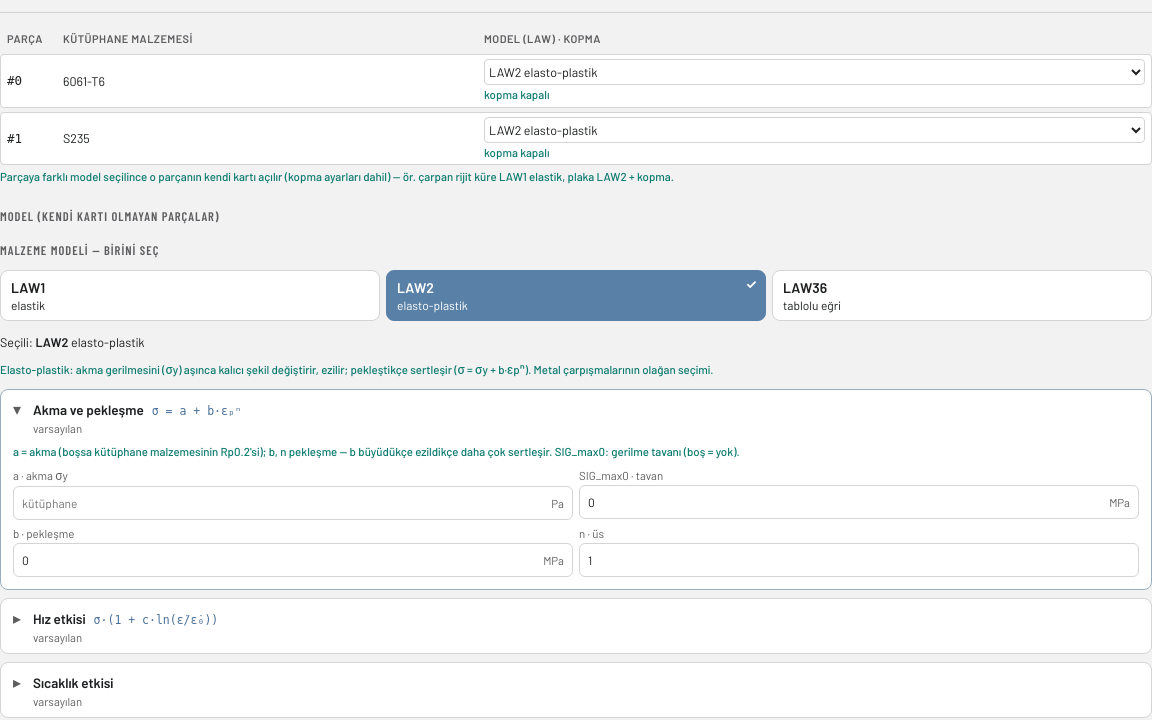
CrashMaterialSection · alttaki kartta model seçilince onay (kullanıcı 2026-10-13) › Evet: tüm parçalar bu model (kendi kartları kalkar)
The width and height of the screenshot is (1152, 720).
Select "LAW36 tablolu" in the dropdown named "Parça 1 modeli" at (815, 130), box [484, 116, 1145, 142]
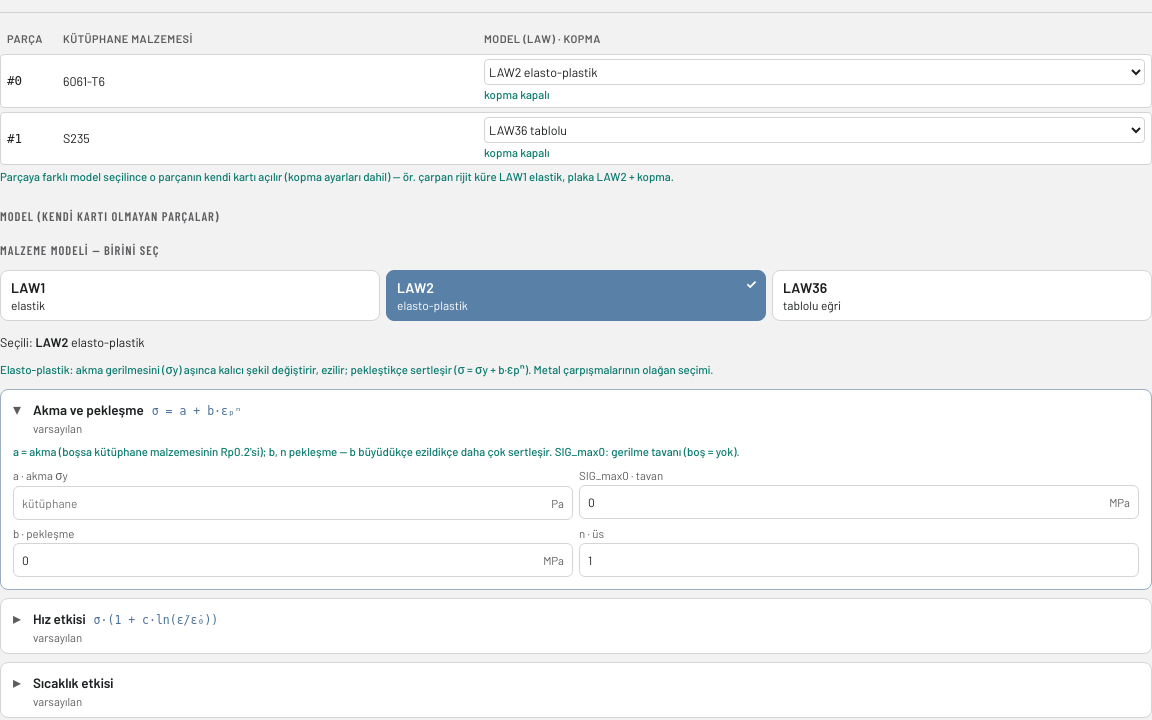
Click the button "LAW1 elastik" at (28, 288), box [0, 270, 380, 321]
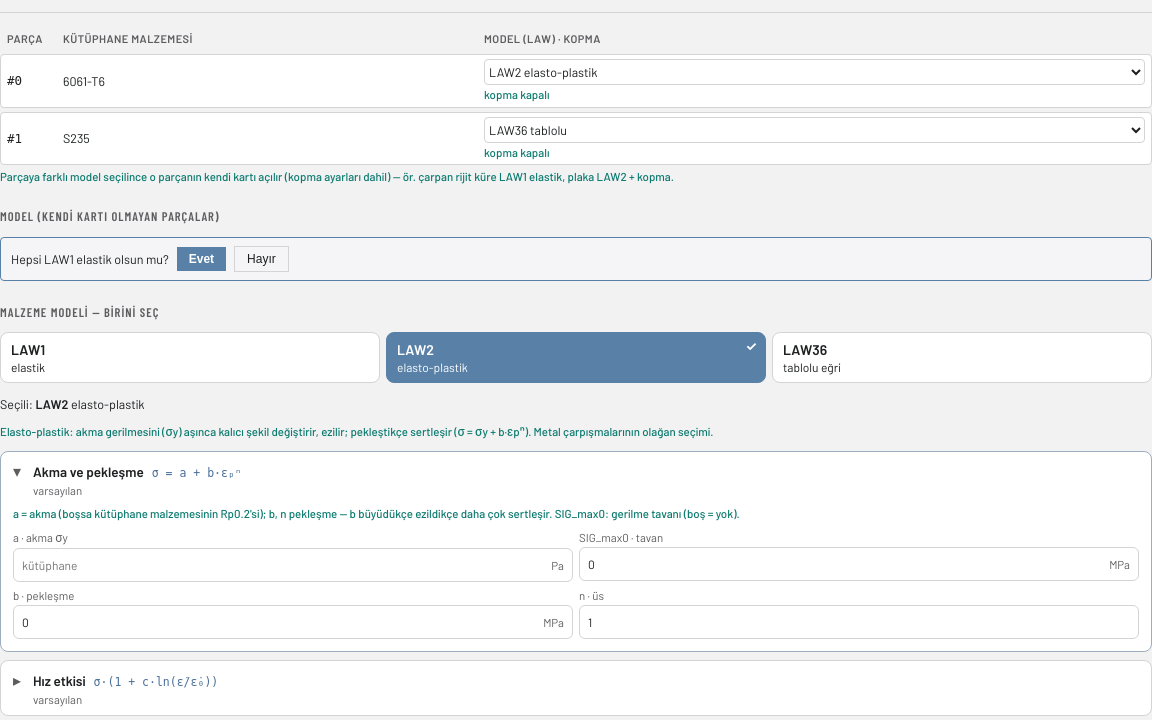
Now the dialog named "Tüm parçalar" shows "Hepsi LAW1 elastik olsun mu?", box [0, 237, 1151, 281]
Click the button "Evet" at (201, 259), box [177, 247, 226, 271]
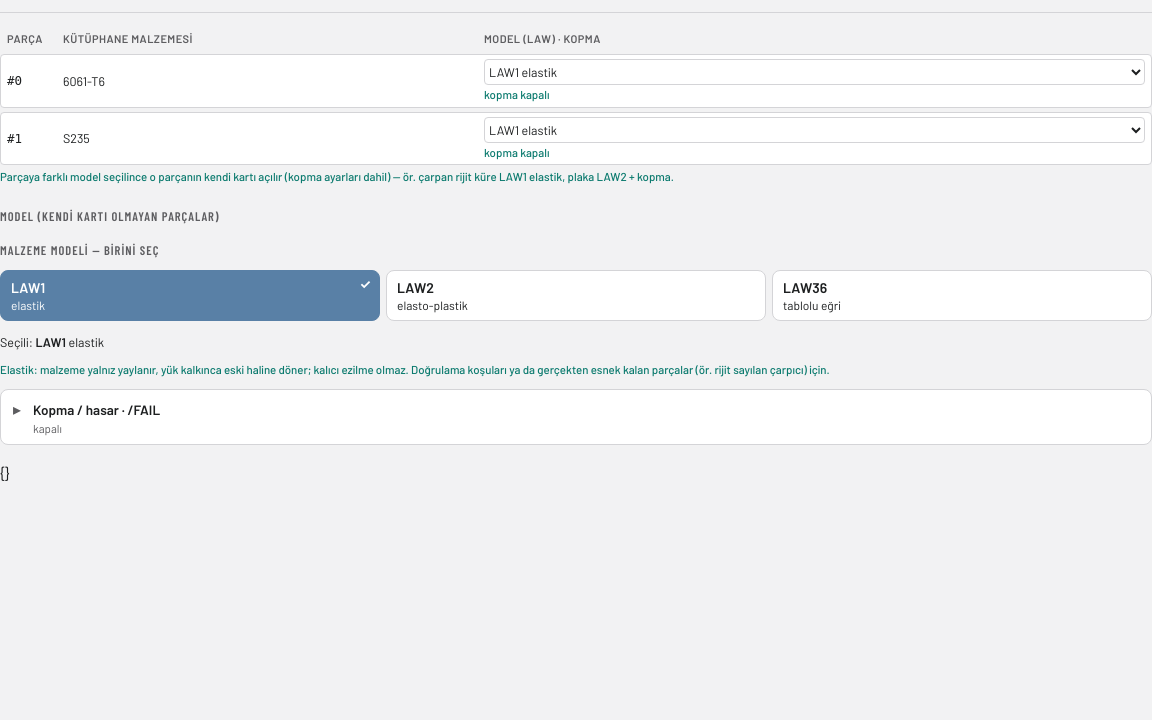
Now the text with test id "parts" reads "{}", box [0, 463, 10, 482]
Now the dropdown named "Parça 0 modeli" shows "LAW1 elastik", box [484, 59, 1145, 85]
